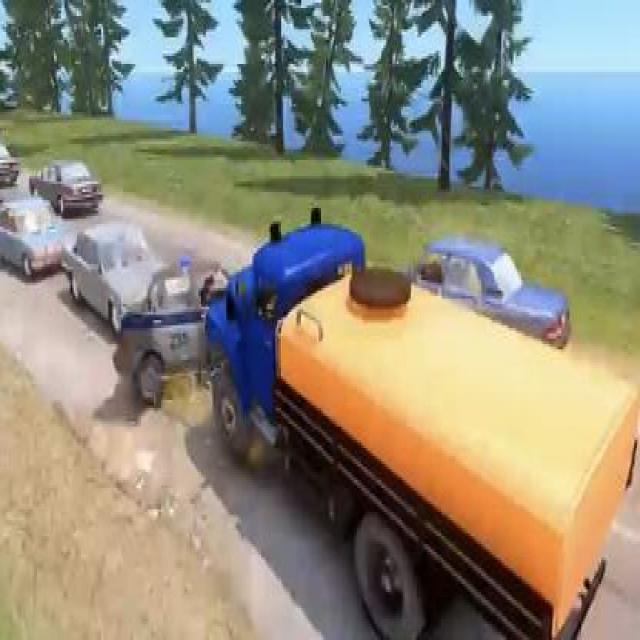accident: (94, 205, 638, 632)
